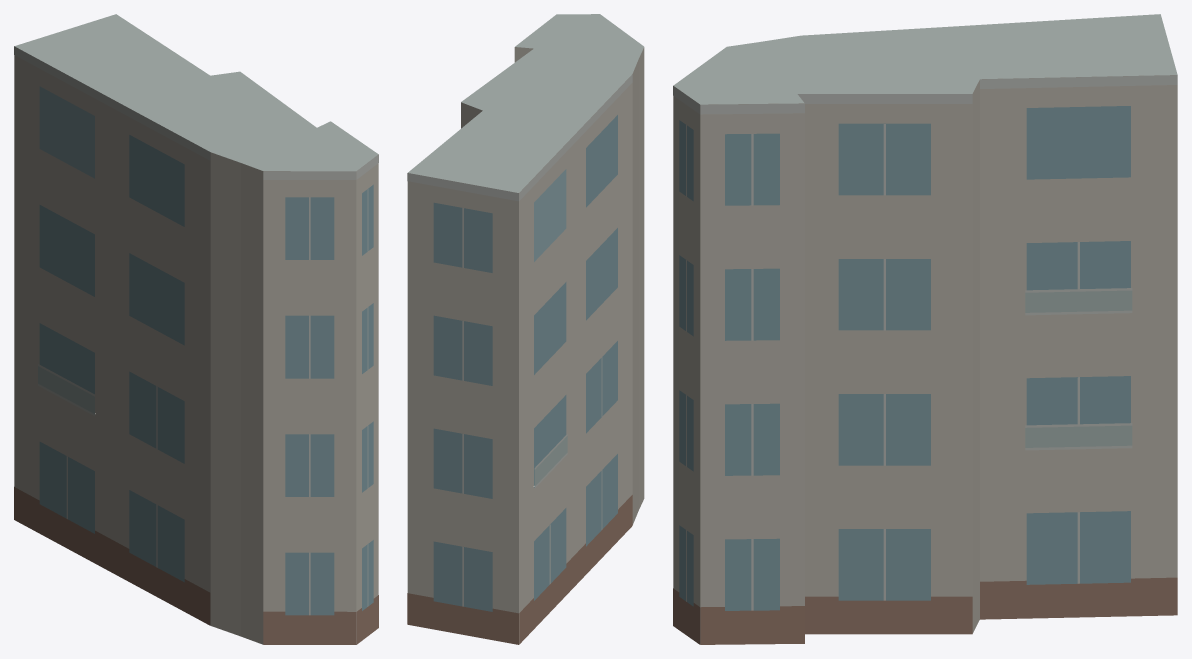
File: survey-upis-32474077.glb
3 views of the same model, side by side, from view 1: azimuth 30°, elevation 25°; view 2: azimuth 150°, elevation 25°; view 3: azimuth 270°, elevation 25° (orthographic). The views are drawn at different scales.
Parts seen in each view (by area): view 1: survey-upis-32474077.tmp; view 2: survey-upis-32474077.tmp; view 3: survey-upis-32474077.tmp.
Part boxes in pixels (box(x1,y1,x2,y2)): survey-upis-32474077.tmp: box(14, 14, 378, 644); survey-upis-32474077.tmp: box(407, 14, 644, 644); survey-upis-32474077.tmp: box(673, 14, 1177, 644).
Size of the model in its own units: 4.75 by 13.2 by 11.18.
